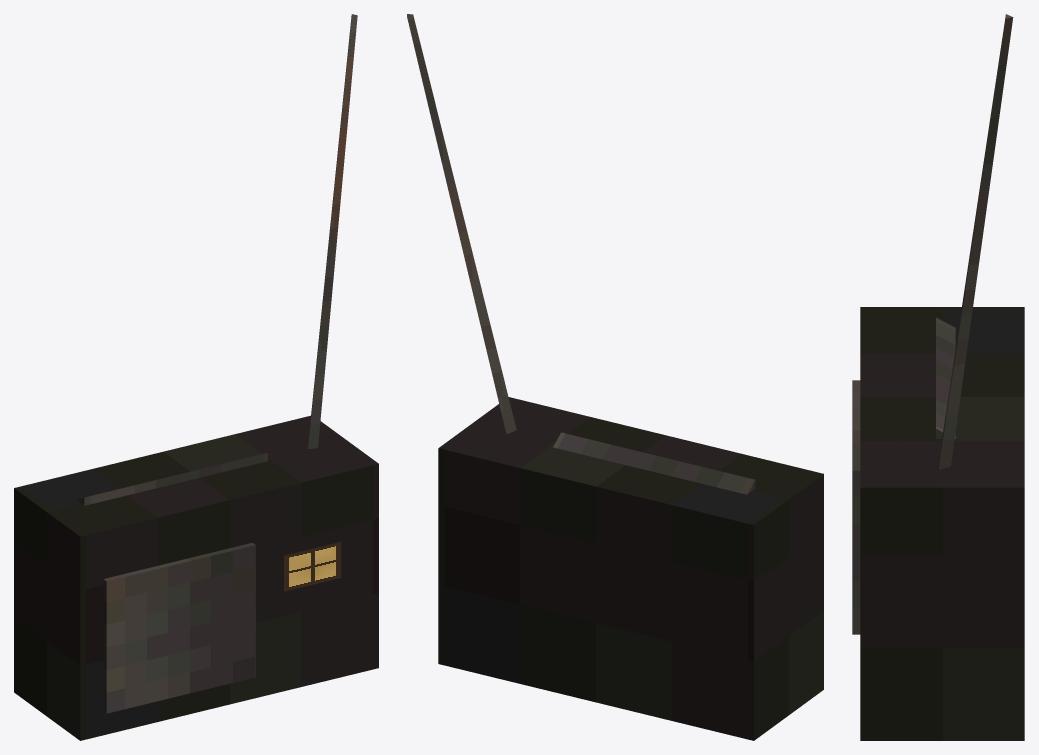
The model's file is radio.obj.
The picture shows the model from 3 angles, left to right: view 1: azimuth 30°, elevation 25°; view 2: azimuth 150°, elevation 25°; view 3: azimuth 270°, elevation 25°; orthographic projection. The views are drawn at different scales.
Visible parts, largest first — view 1: radio; view 2: radio; view 3: radio.
Boxes of the visible parts, x1,y1,x2,y2 form: radio: (14,14,378,740); radio: (407,14,823,740); radio: (852,14,1024,740).
Size of the model in its own units: 0.2926 by 0.5006 by 0.105.
Materials: 3 (3 with a texture image).
